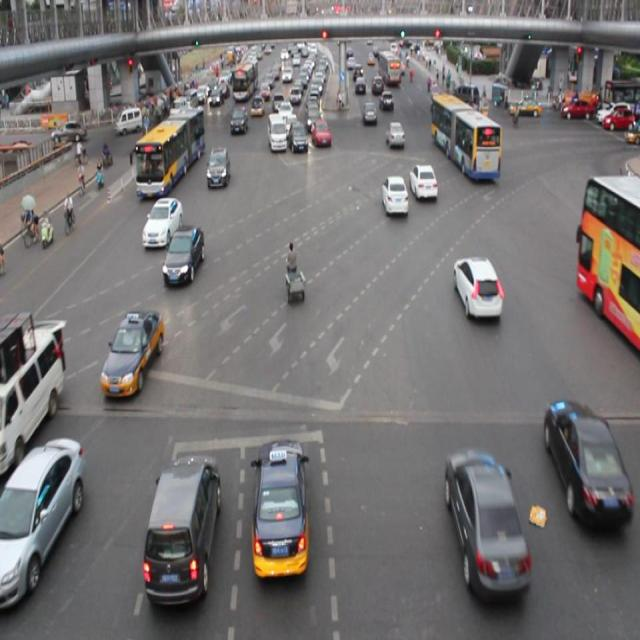car: (1, 435, 84, 604), (442, 451, 528, 601), (542, 401, 626, 531), (250, 439, 311, 581), (102, 307, 164, 398), (452, 255, 502, 321), (164, 225, 205, 286), (142, 197, 182, 245), (381, 174, 408, 217), (408, 162, 436, 203), (206, 144, 230, 190), (311, 116, 333, 152), (288, 119, 310, 155), (229, 103, 249, 138), (384, 120, 406, 149)
truck: (144, 455, 221, 603), (1, 313, 66, 460), (267, 113, 286, 154)
van: (580, 174, 640, 342), (136, 109, 204, 193), (432, 96, 499, 180)
